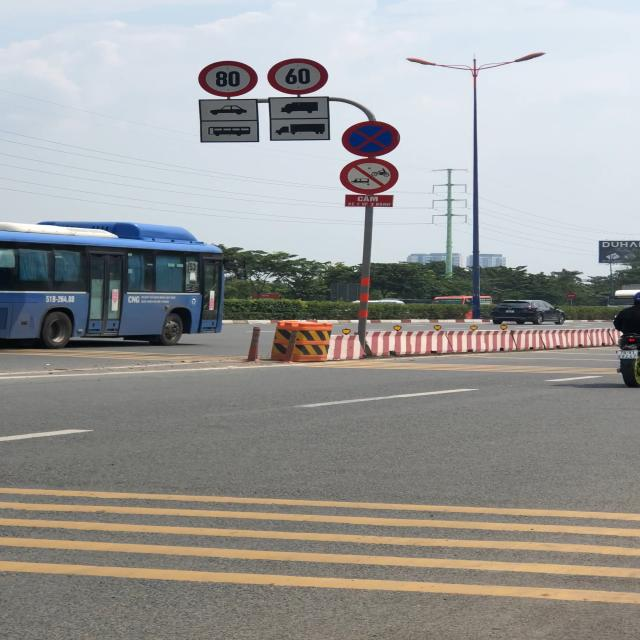Bien bao cam dung xe va do xe: (341, 117, 403, 159)
Bien bao toc do toi da cho phep: (266, 56, 334, 97), (199, 60, 258, 98)
